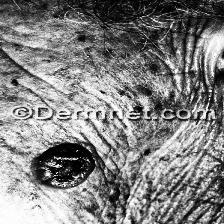Benign Marking or Mole: (32, 141, 95, 190)
